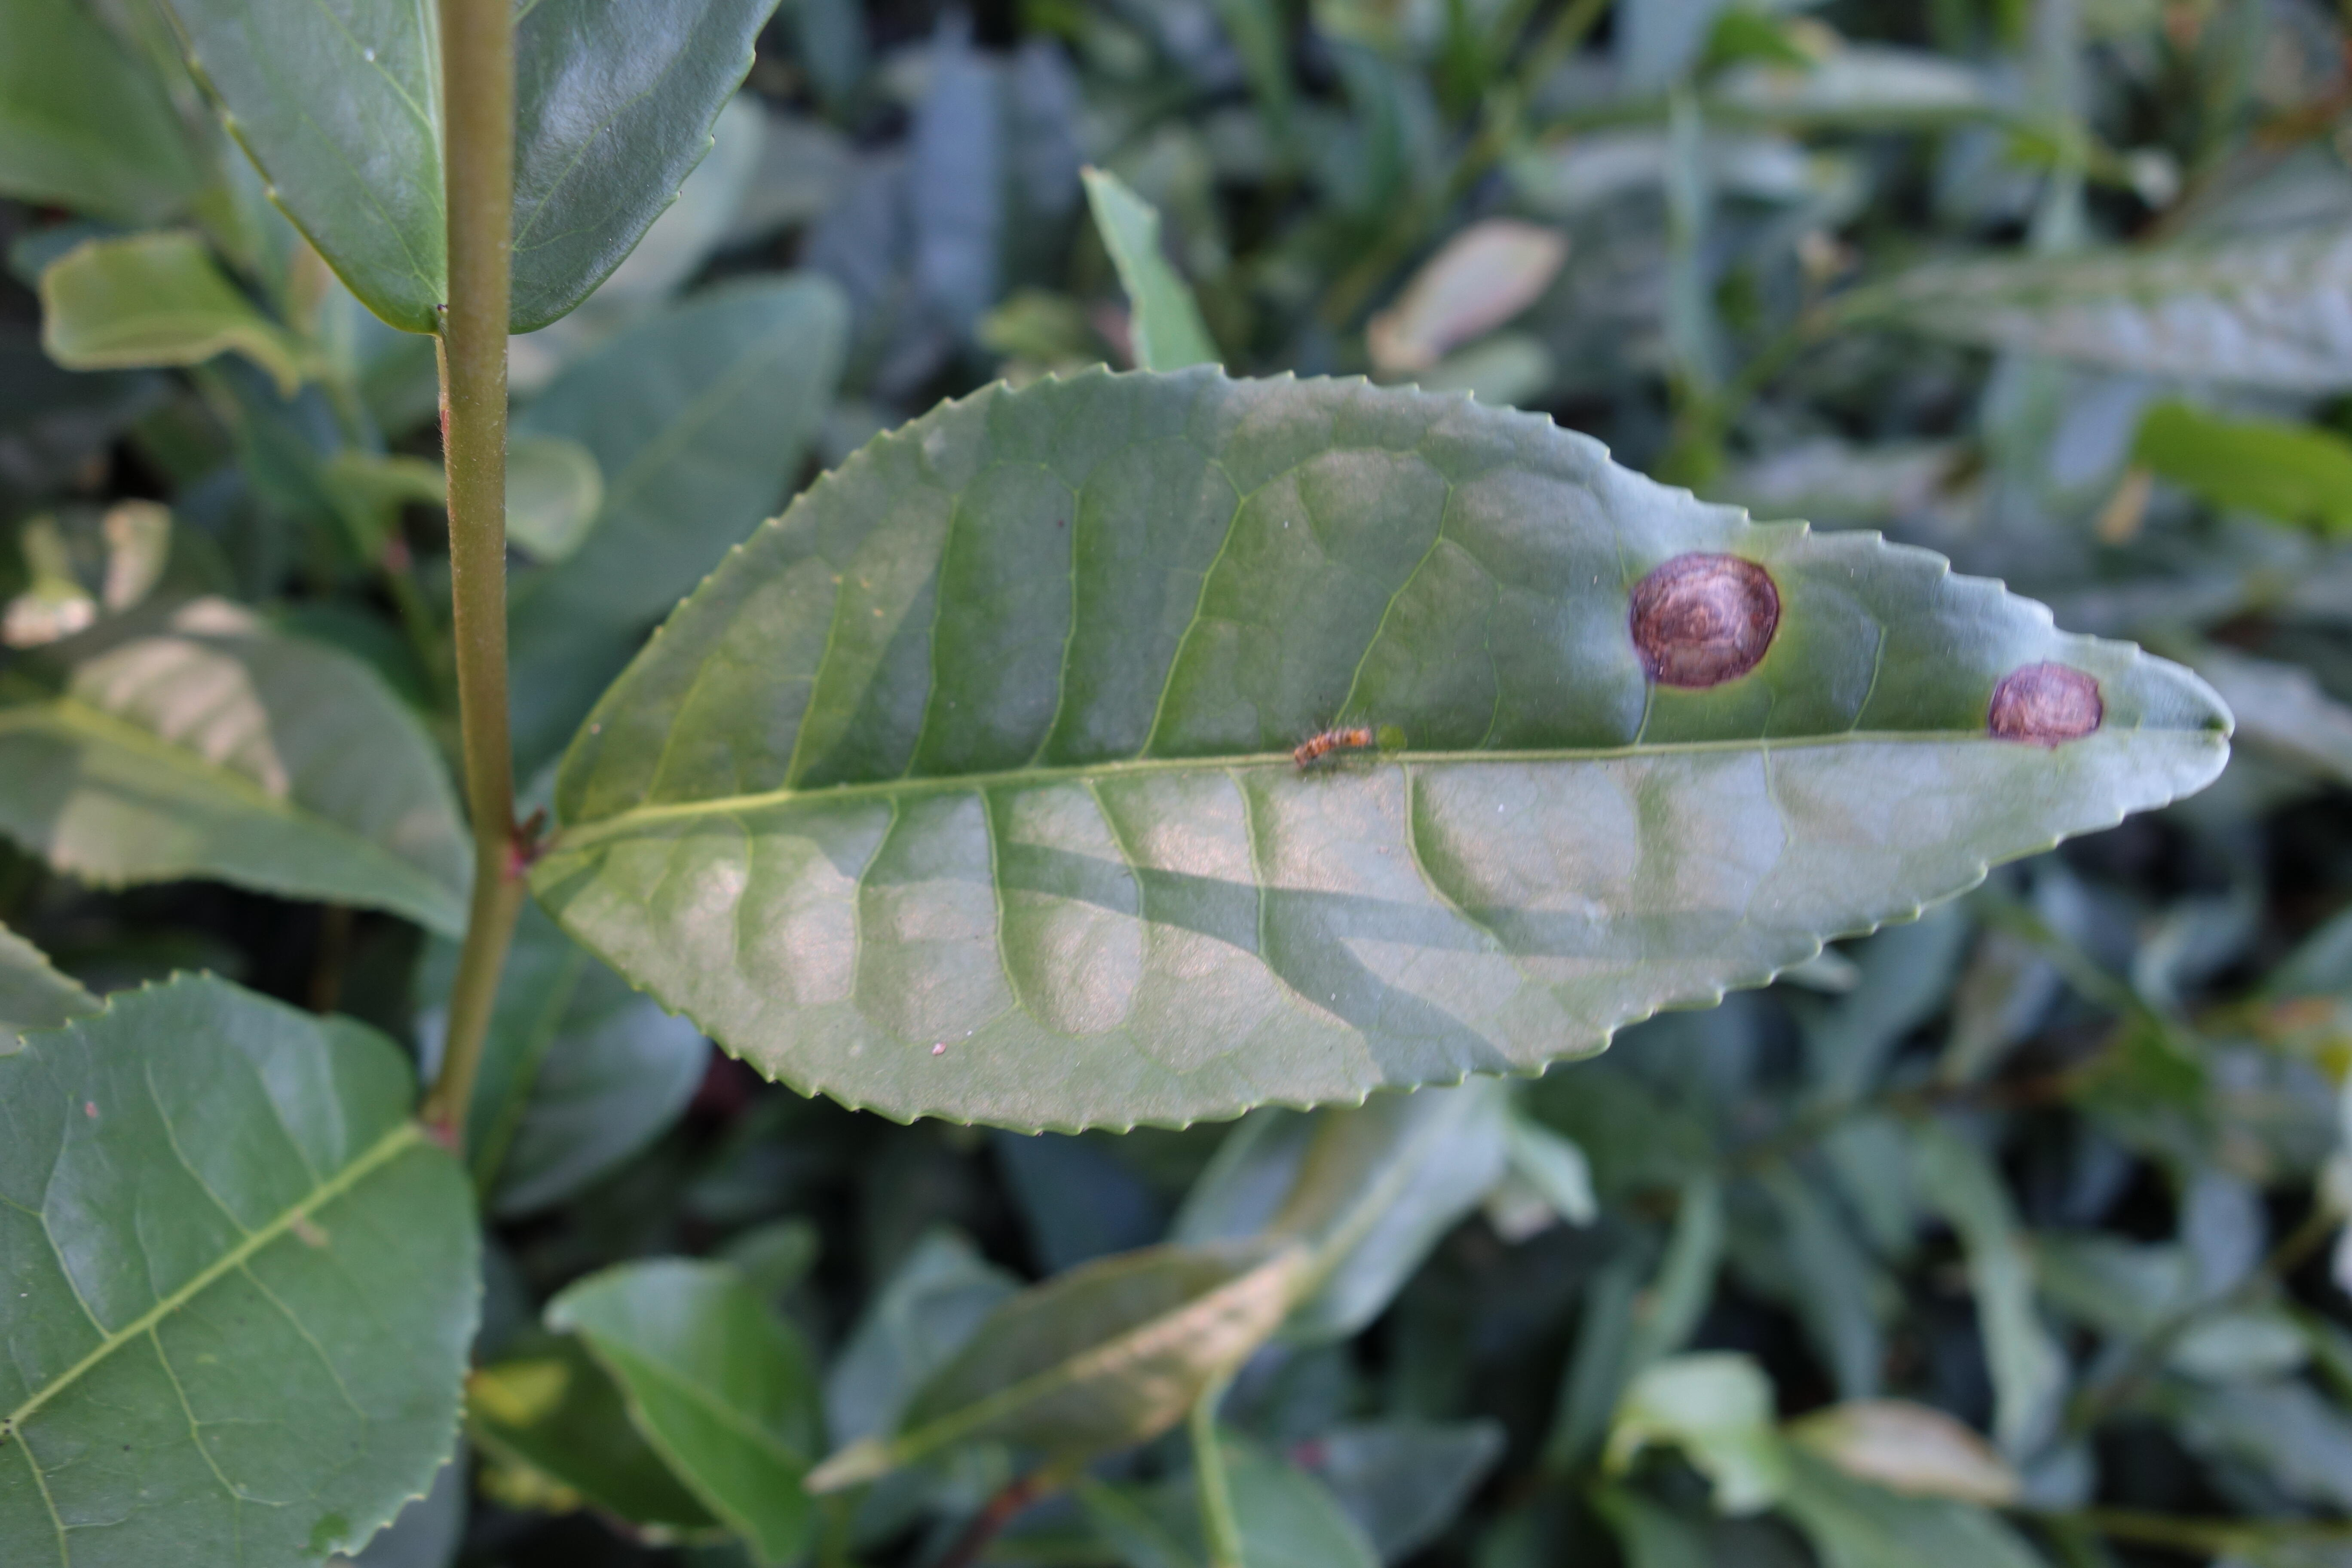tanju_high: (528, 362, 2245, 1137)
